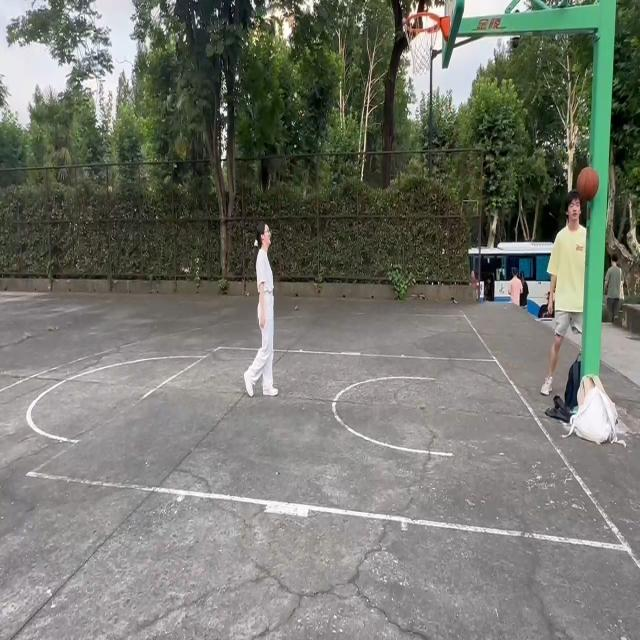basketball: (404, 12, 448, 82)
rim: (579, 168, 600, 201)
